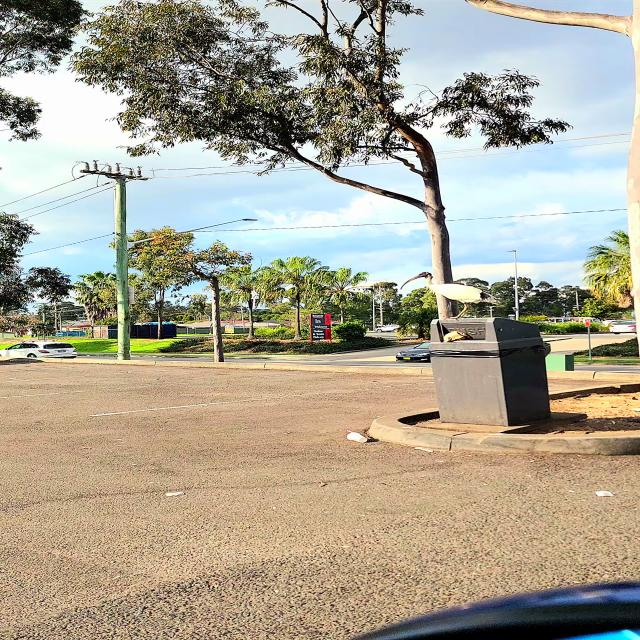Birds-Ibis: (398, 270, 496, 322)
